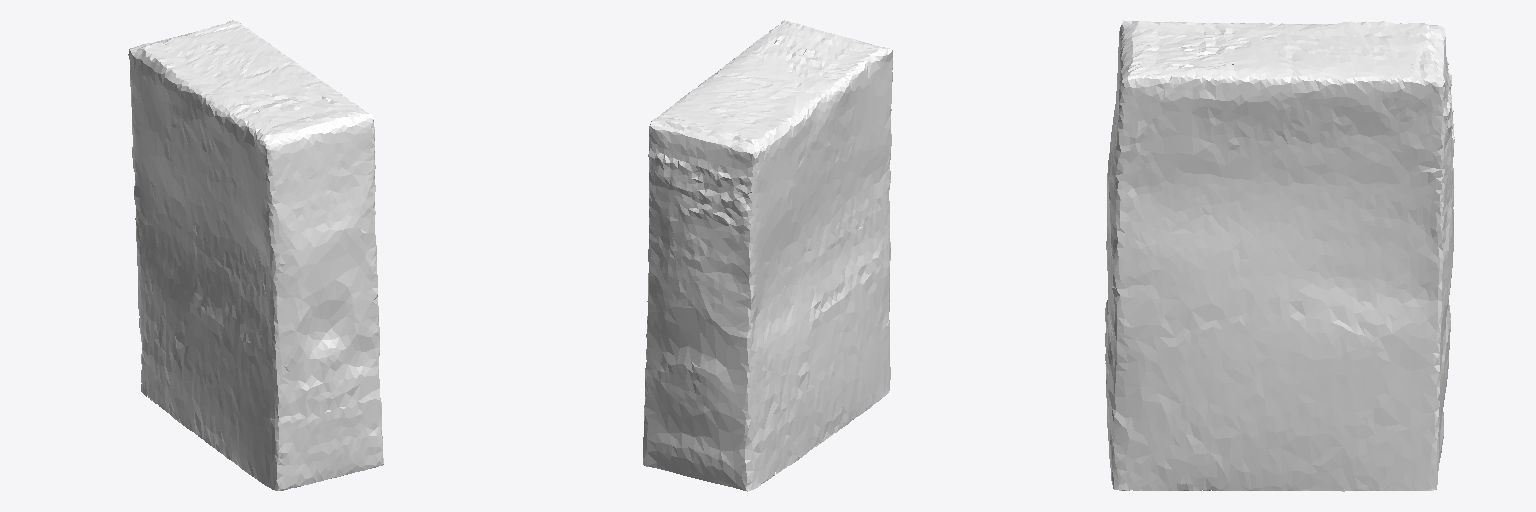
URDF robot description (rice):
<?xml version="1.0" ?>
<robot name="rice">
 <link name="baseLink">
   <contact>
     <lateral_friction value="2.0"/>
   </contact>
   <inertial>
     <origin rpy="0 0 0" xyz="-9e-06 -0.006682 -0.020108"/>
      <mass value="1.0"/>
      <inertia ixx="0.000005" ixy="0.000000" ixz="0.000000" iyy="0.000003" iyz="-0.000000" izz="0.000002"/>
   </inertial>
   <visual>
     <origin rpy="0 0 0" xyz="0 0 0"/>
     <geometry>
       <mesh filename="rice.obj" scale="1.0 1.0 1.0"/>
     </geometry>
      <material name="white">
       <color rgba="1 1 1 1"/>
     </material>
   </visual>
   <collision>
     <origin rpy="0 0 0" xyz="0 0 0"/>
     <geometry>
       <mesh filename="rice_vhacd2.obj" scale="1.0 1.0 1.0"/>
     </geometry>
   </collision>
 </link>
</robot>

--- Facts derived from the render (not from the file) ---
The picture shows the robot from 3 angles, left to right: view 1: azimuth 30°, elevation 25°; view 2: azimuth 150°, elevation 25°; view 3: azimuth 270°, elevation 25°; orthographic projection.
Model rice with 1 links and 0 joints (none), rooted at baseLink, posed every joint at zero.
Links seen in each view (by area): view 1: baseLink; view 2: baseLink; view 3: baseLink.
Link boxes in pixels (x1,y1,x2,y2): baseLink: (128, 20, 383, 490); baseLink: (643, 20, 892, 491); baseLink: (1105, 20, 1454, 491).
Bounding box of the posed robot: 0.0607 × 0.1305 × 0.169 m (x, y, z).
Meshes: 1 distinct files referenced, 1 mesh visuals loaded (1 OBJ).